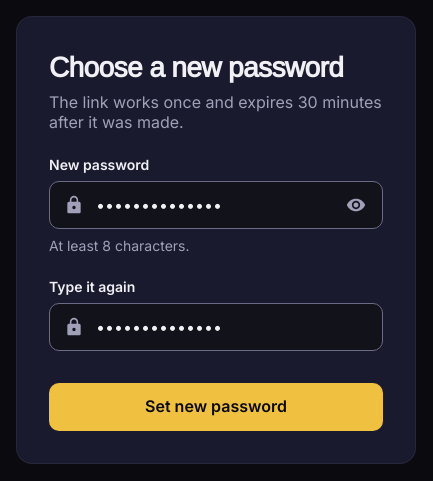
Scenario: AuthComponent on a reset link › sets the new password with the token and confirms
Click the button with class "auth-submit".
click(216, 407)  # box [49,383,383,431]
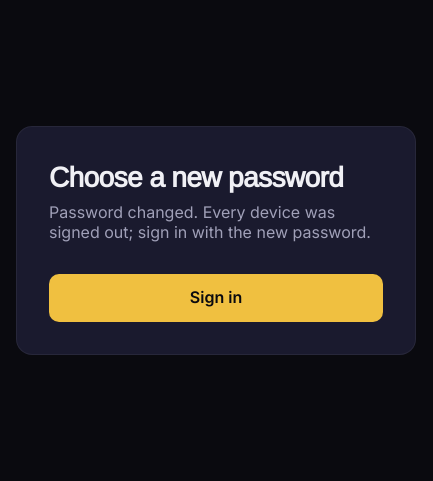
Now the message "Password changed. Every device was signed out; sign in with the new password." is shown, box [49,202,383,242]
